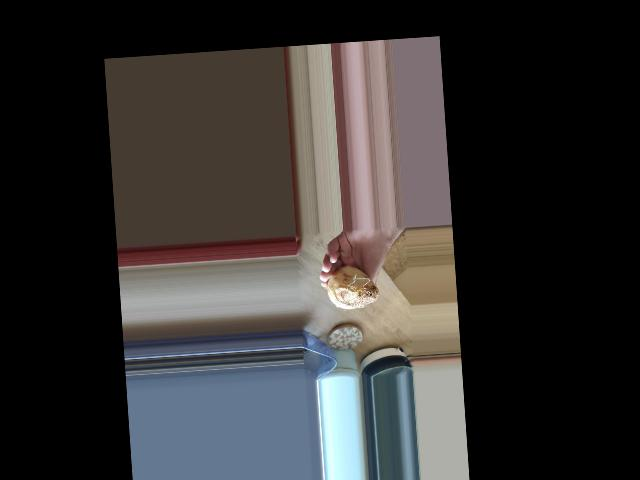onion: (324, 264, 376, 315)
